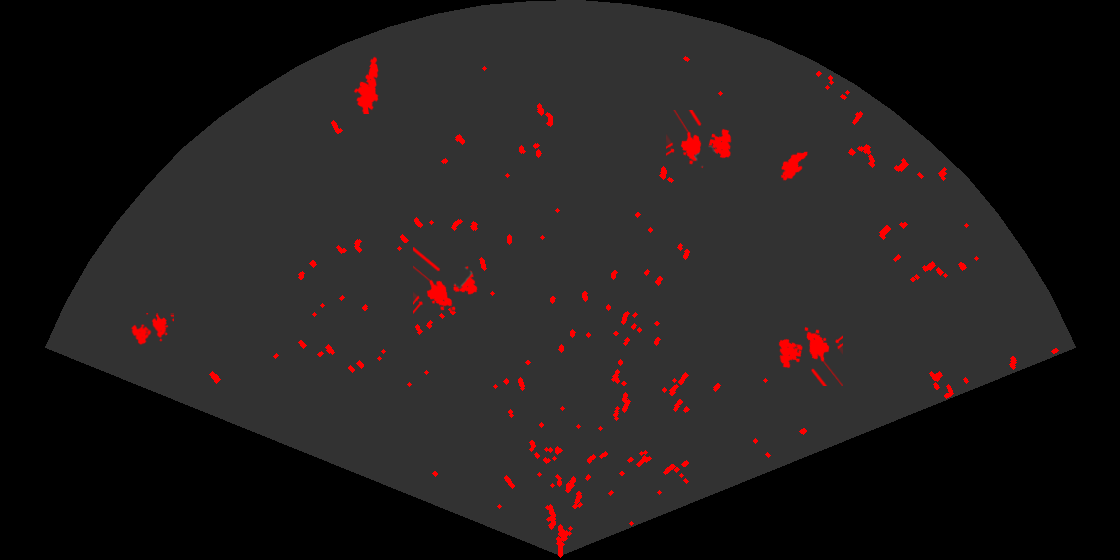AUV: (779, 150, 810, 182)
cage: (413, 247, 479, 316), (777, 325, 843, 386), (666, 110, 733, 170), (129, 313, 174, 347)
frogman: (352, 54, 380, 114)
